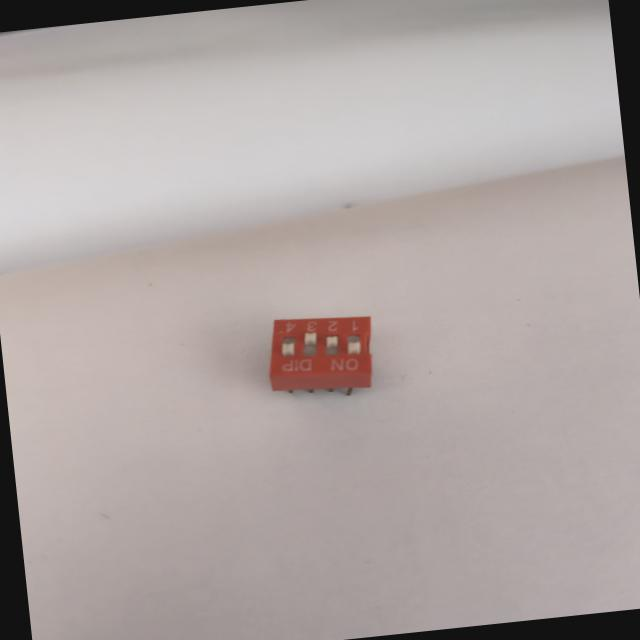switch: (253, 296, 389, 408)
